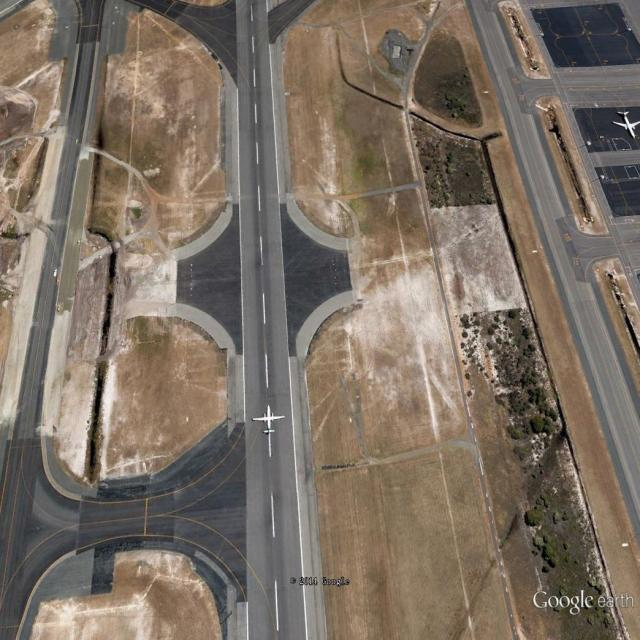aircraft: (249, 402, 289, 439), (610, 108, 639, 142)
